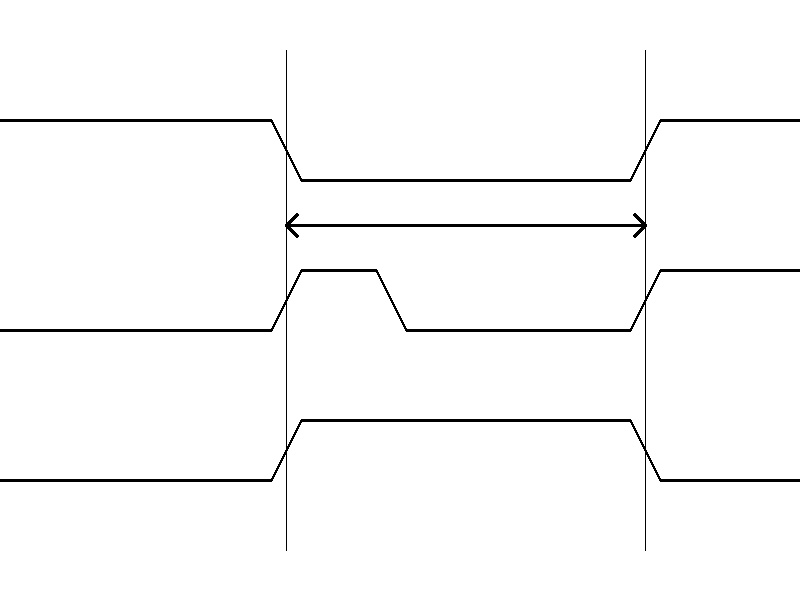double_arrow: (286, 210, 645, 240)
